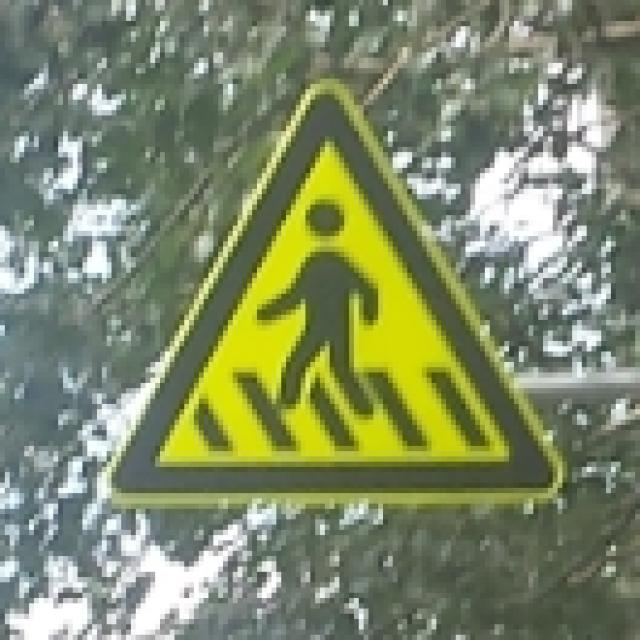Crossing: (102, 76, 566, 503)
